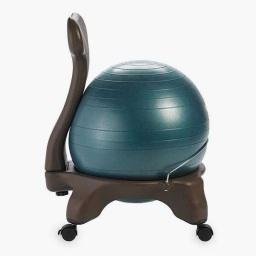Chair: (45, 13, 214, 242)
